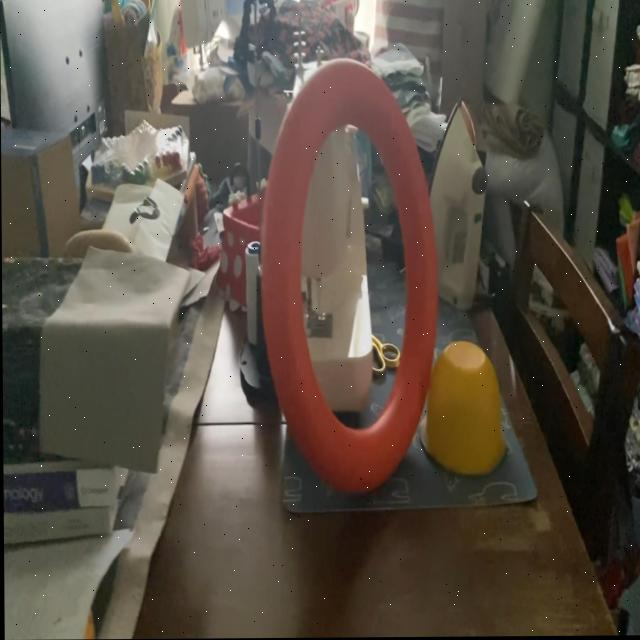note: (257, 57, 439, 502)
